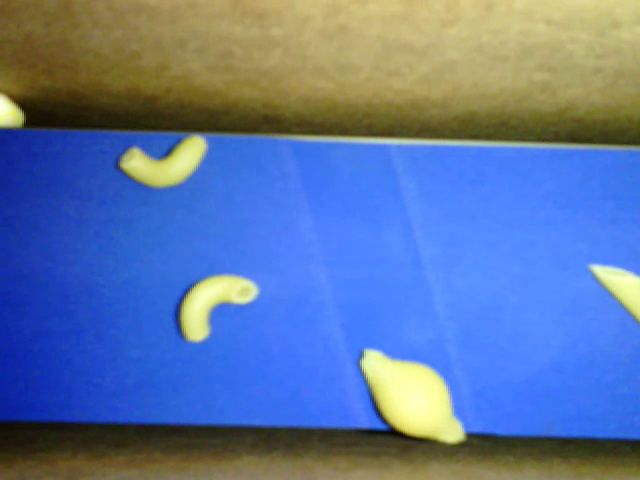elbow: (178, 273, 258, 342), (119, 133, 210, 190)
penne: (588, 264, 639, 323)
shell: (359, 348, 466, 444)
